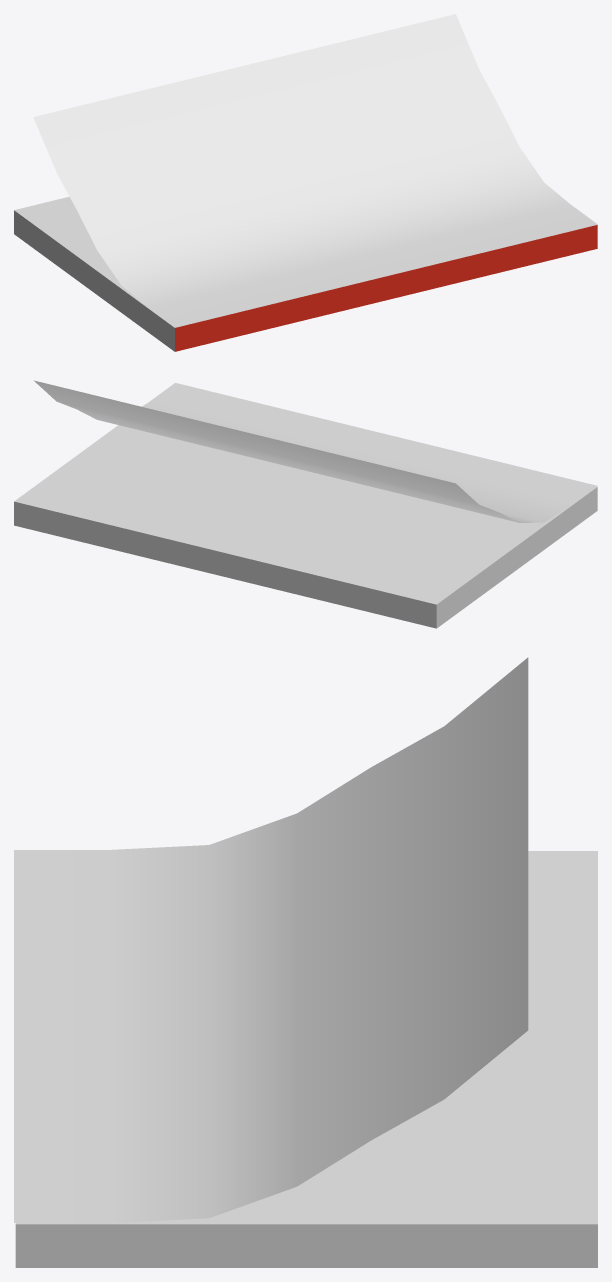
The model's file is manifiestoculturista.fbx.
3 views of the same model, one above another, from view 1: azimuth 30°, elevation 25°; view 2: azimuth 150°, elevation 25°; view 3: azimuth 270°, elevation 25° (orthographic). The views are drawn at different scales.
Parts seen in each view (by area): view 1: Plane, Cube; view 2: Cube, Plane; view 3: Plane, Cube.
Part boxes in pixels (bbox=[...]): Plane: bbox=[33, 14, 597, 327]; Cube: bbox=[14, 196, 597, 351]; Cube: bbox=[14, 425, 597, 628]; Plane: bbox=[33, 380, 597, 522]; Plane: bbox=[14, 657, 528, 1222]; Cube: bbox=[15, 851, 597, 1267].
Size of the model in its own units: 200 by 59.29 by 132.
